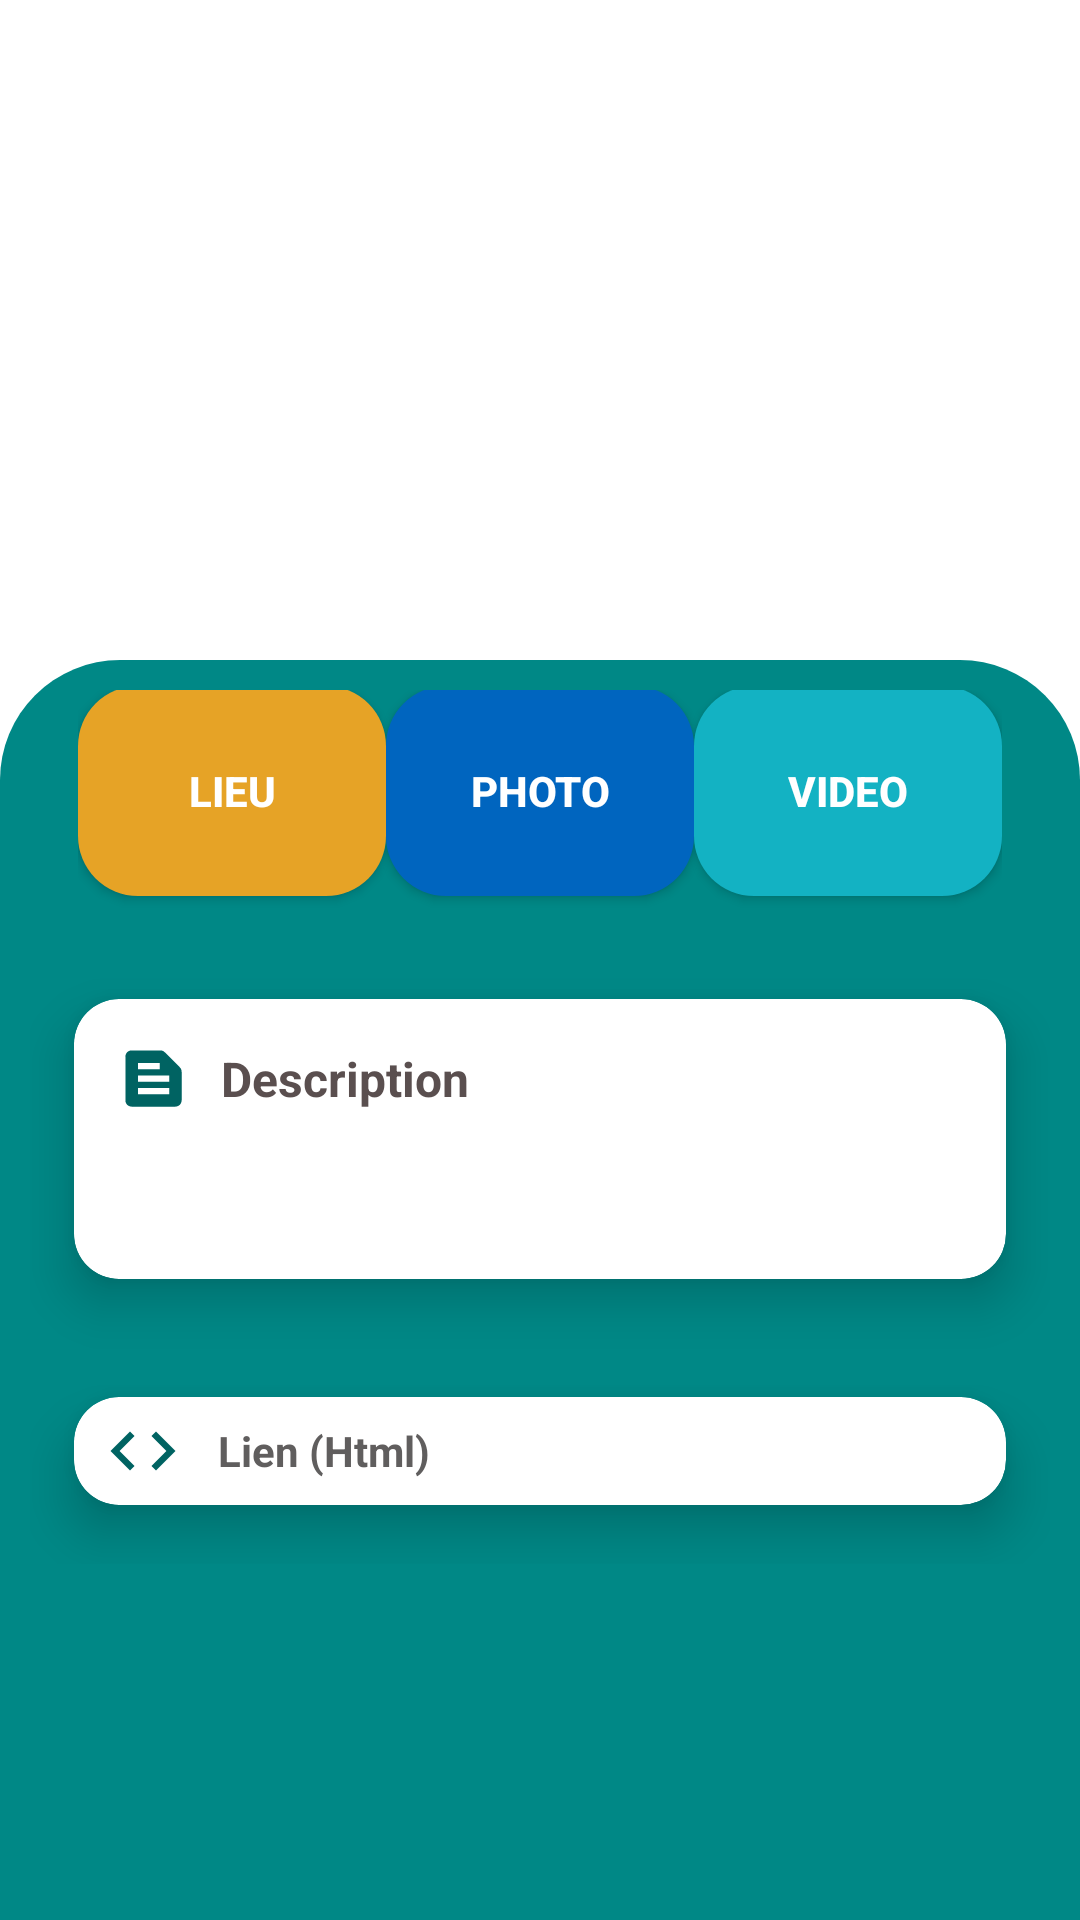

Screen size 1080px x 1920px. Icon name, then its center in pixels as point (x, y):
code: point (143, 1451)
text snippet: point (153, 1078)
